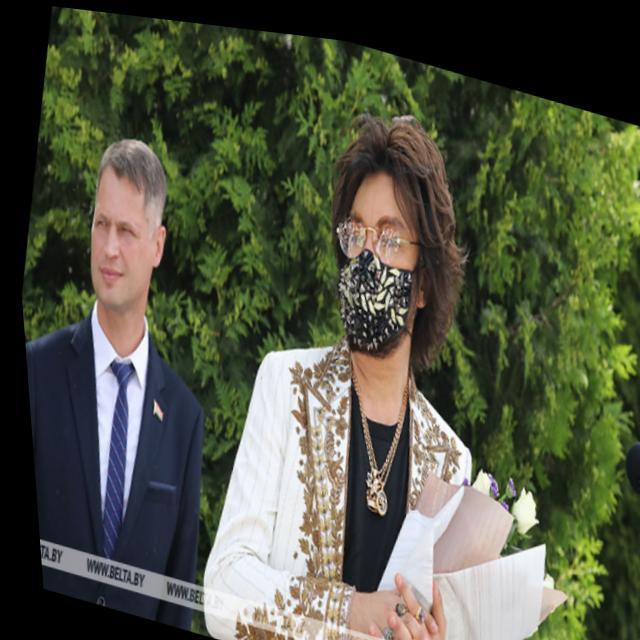Nonhelmet: (325, 111, 468, 369), (86, 133, 173, 318)
